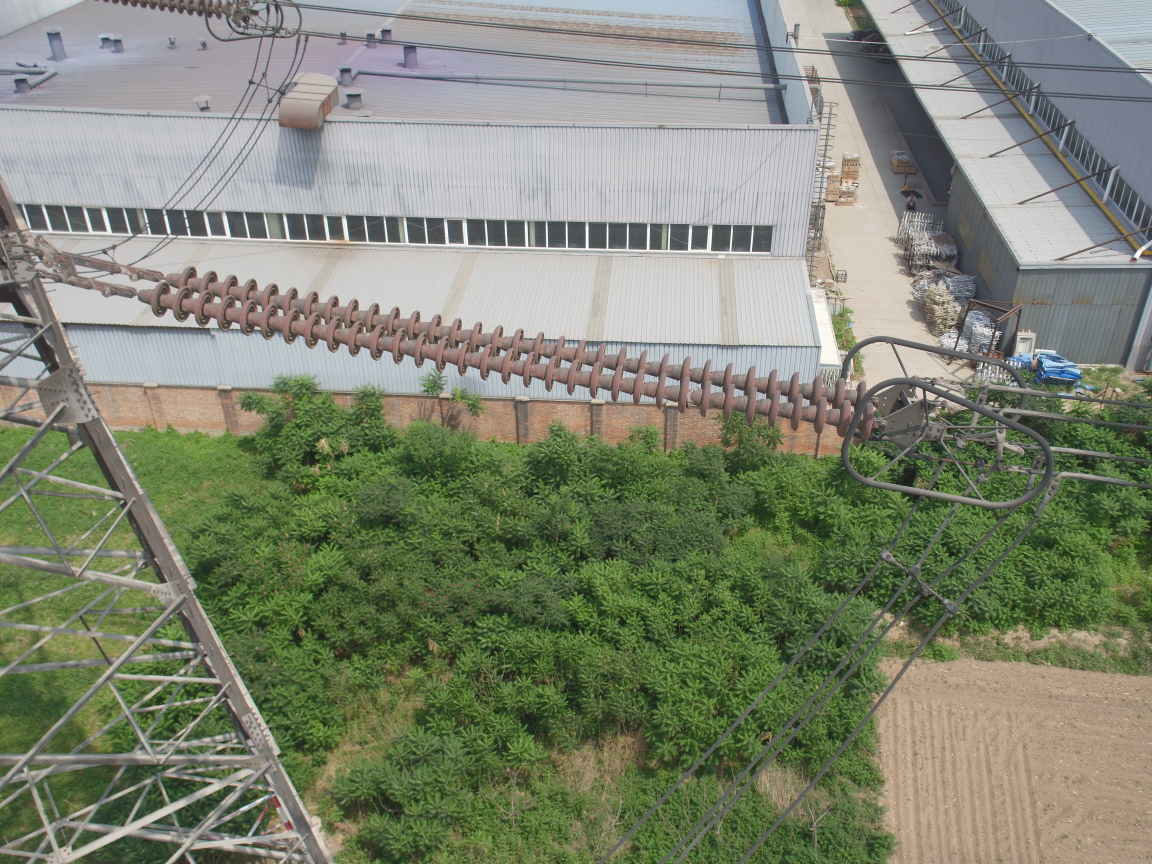insulator: (102, 260, 902, 447)
